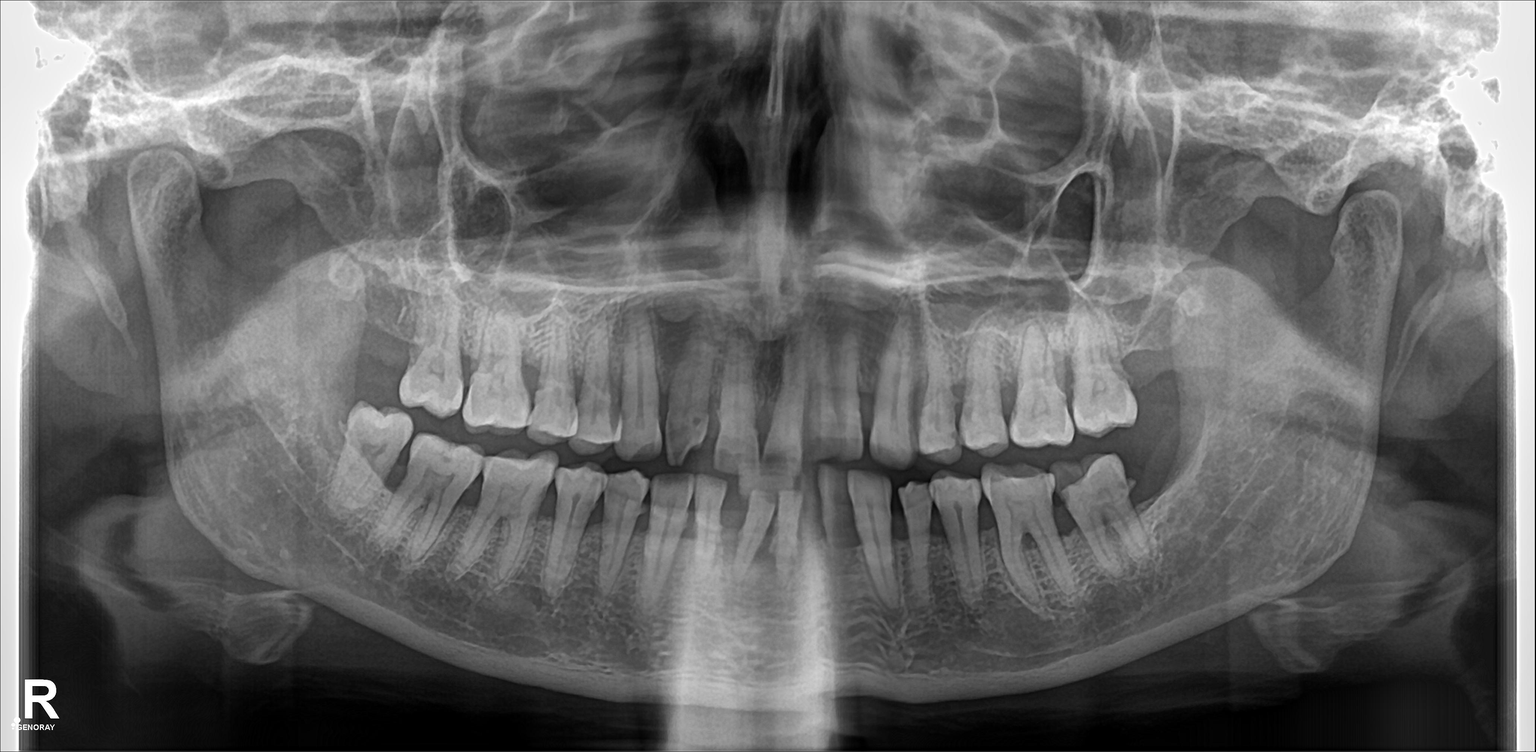Missing Tooth: (354, 292, 405, 389), (1127, 305, 1175, 399), (1132, 443, 1184, 517)
